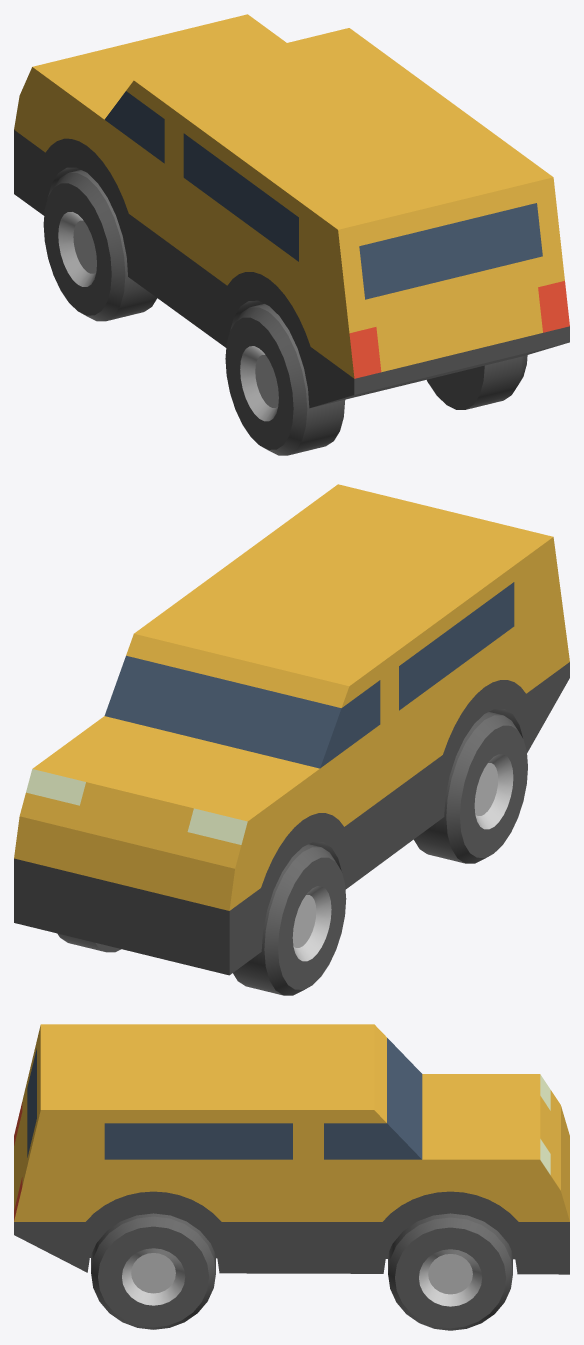
The model's file is carStation.obj.
3 views of the same model, one above another, from view 1: azimuth 30°, elevation 25°; view 2: azimuth 150°, elevation 25°; view 3: azimuth 270°, elevation 25° (orthographic). The views are drawn at different scales.
Visible parts, largest first — view 1: body 8, wheelBackLeft 8, wheelFrontLeft 8, wheelBackRight 8; view 2: body 8, wheelBackLeft 8, wheelFrontLeft 8; view 3: body 8, wheelFrontRight 8, wheelBackRight 8.
Part boxes in pixels (bbox=[...]): body 8: bbox=[14, 14, 569, 408]; wheelBackLeft 8: bbox=[225, 304, 345, 455]; wheelFrontLeft 8: bbox=[43, 170, 157, 321]; wheelBackRight 8: bbox=[427, 355, 527, 409]; body 8: bbox=[14, 484, 569, 975]; wheelBackLeft 8: bbox=[414, 712, 527, 863]; wheelFrontLeft 8: bbox=[233, 844, 346, 995]; body 8: bbox=[14, 1024, 569, 1274]; wheelFrontRight 8: bbox=[388, 1213, 512, 1330]; wheelBackRight 8: bbox=[91, 1213, 215, 1329].
Bounding box in the file's own units: 4.95 × 5.48 × 12.45.
